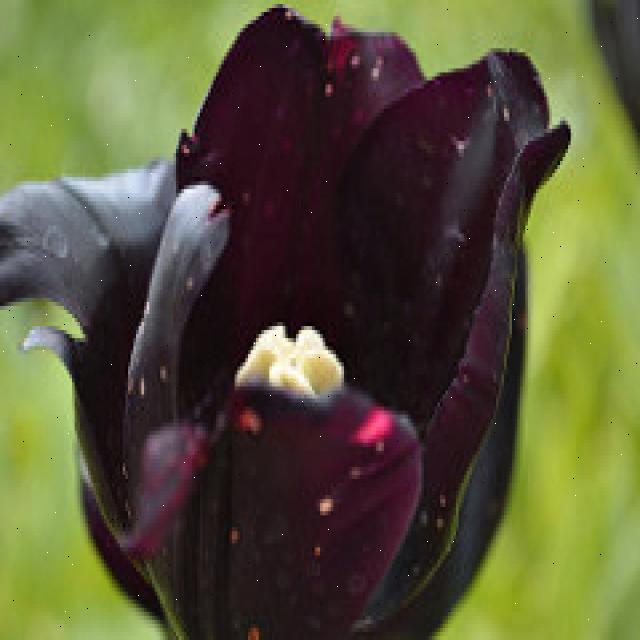Bloomed: (0, 0, 571, 636)
